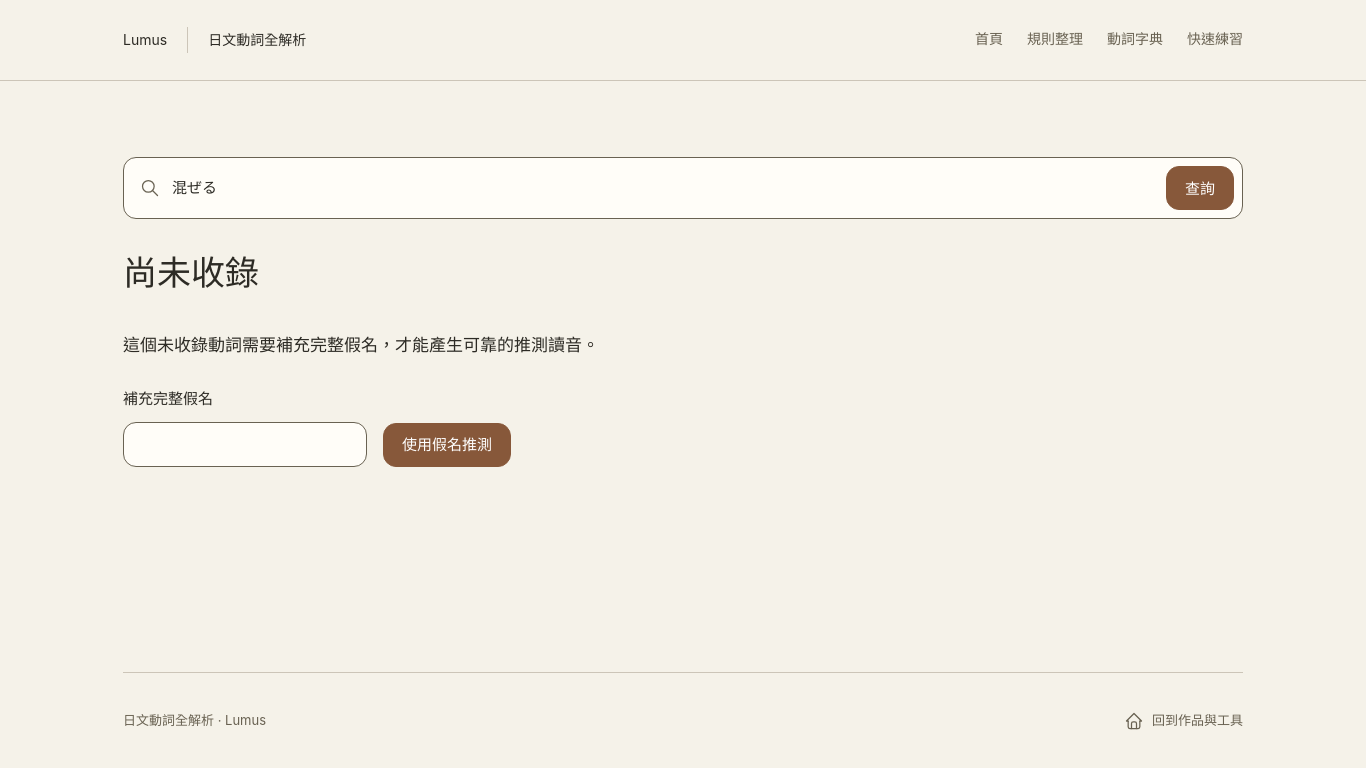
Scenario: router › asks for kana before inferring an unrecorded kanji verb
In the field labelled "補充完整假名": (245, 444) [123,422,367,466], type "まぜる"
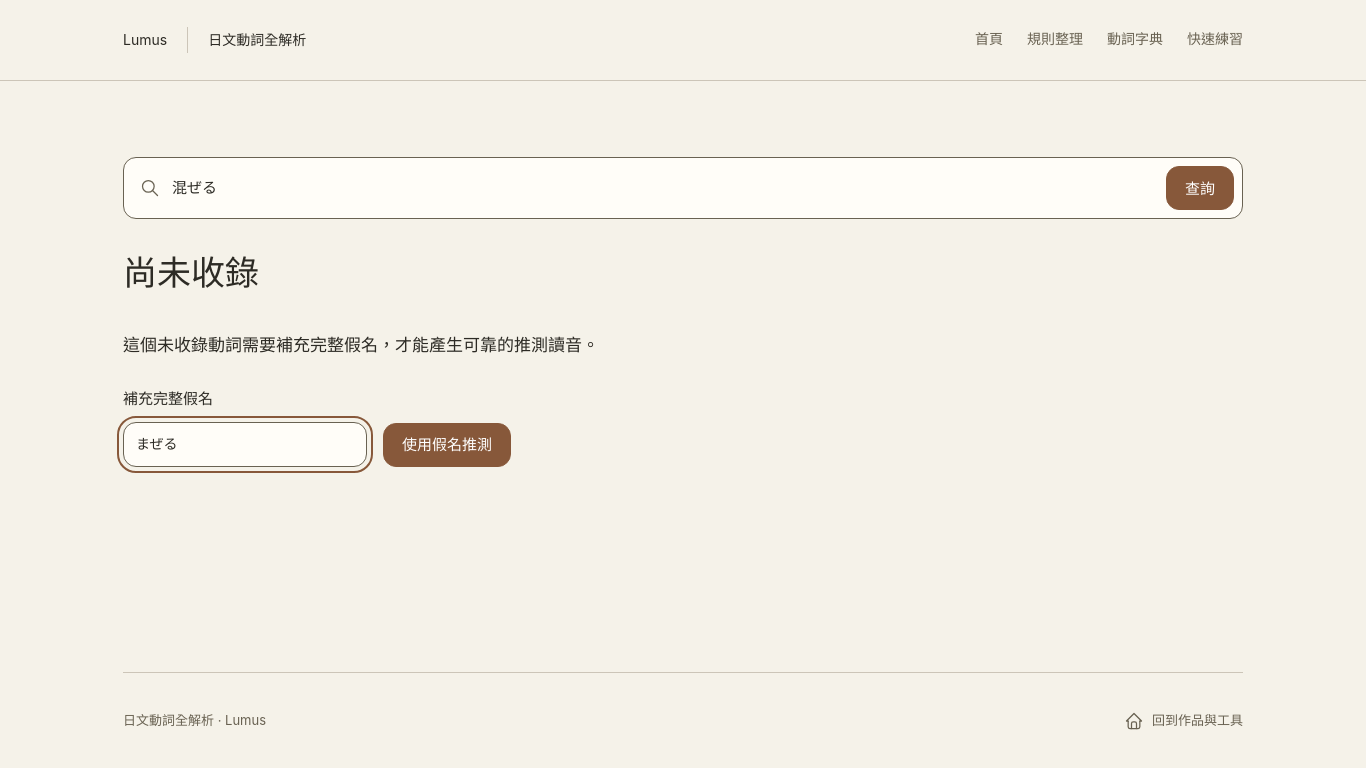
Click the button "使用假名推測": (447, 444) [383,422,511,466]
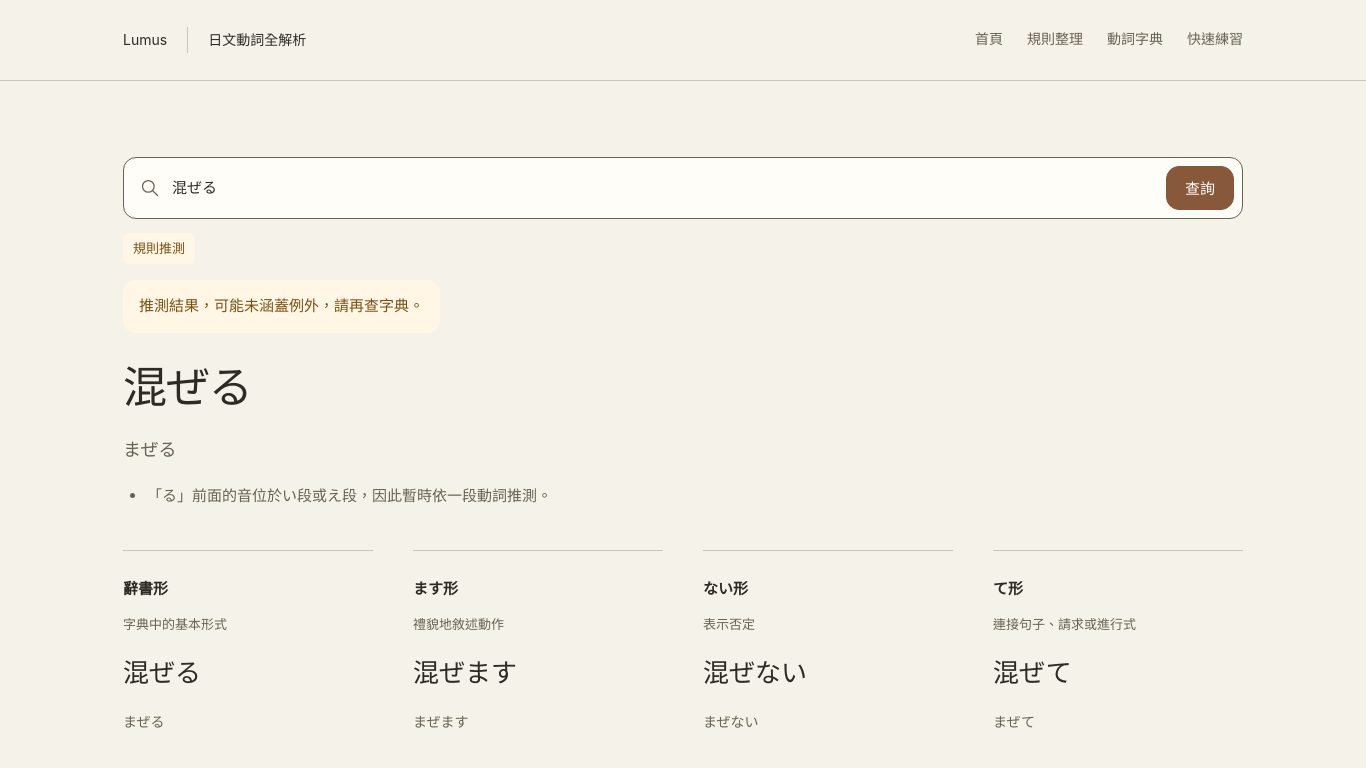
Now the text "混ぜます" is shown, box [413,659,517,688]
